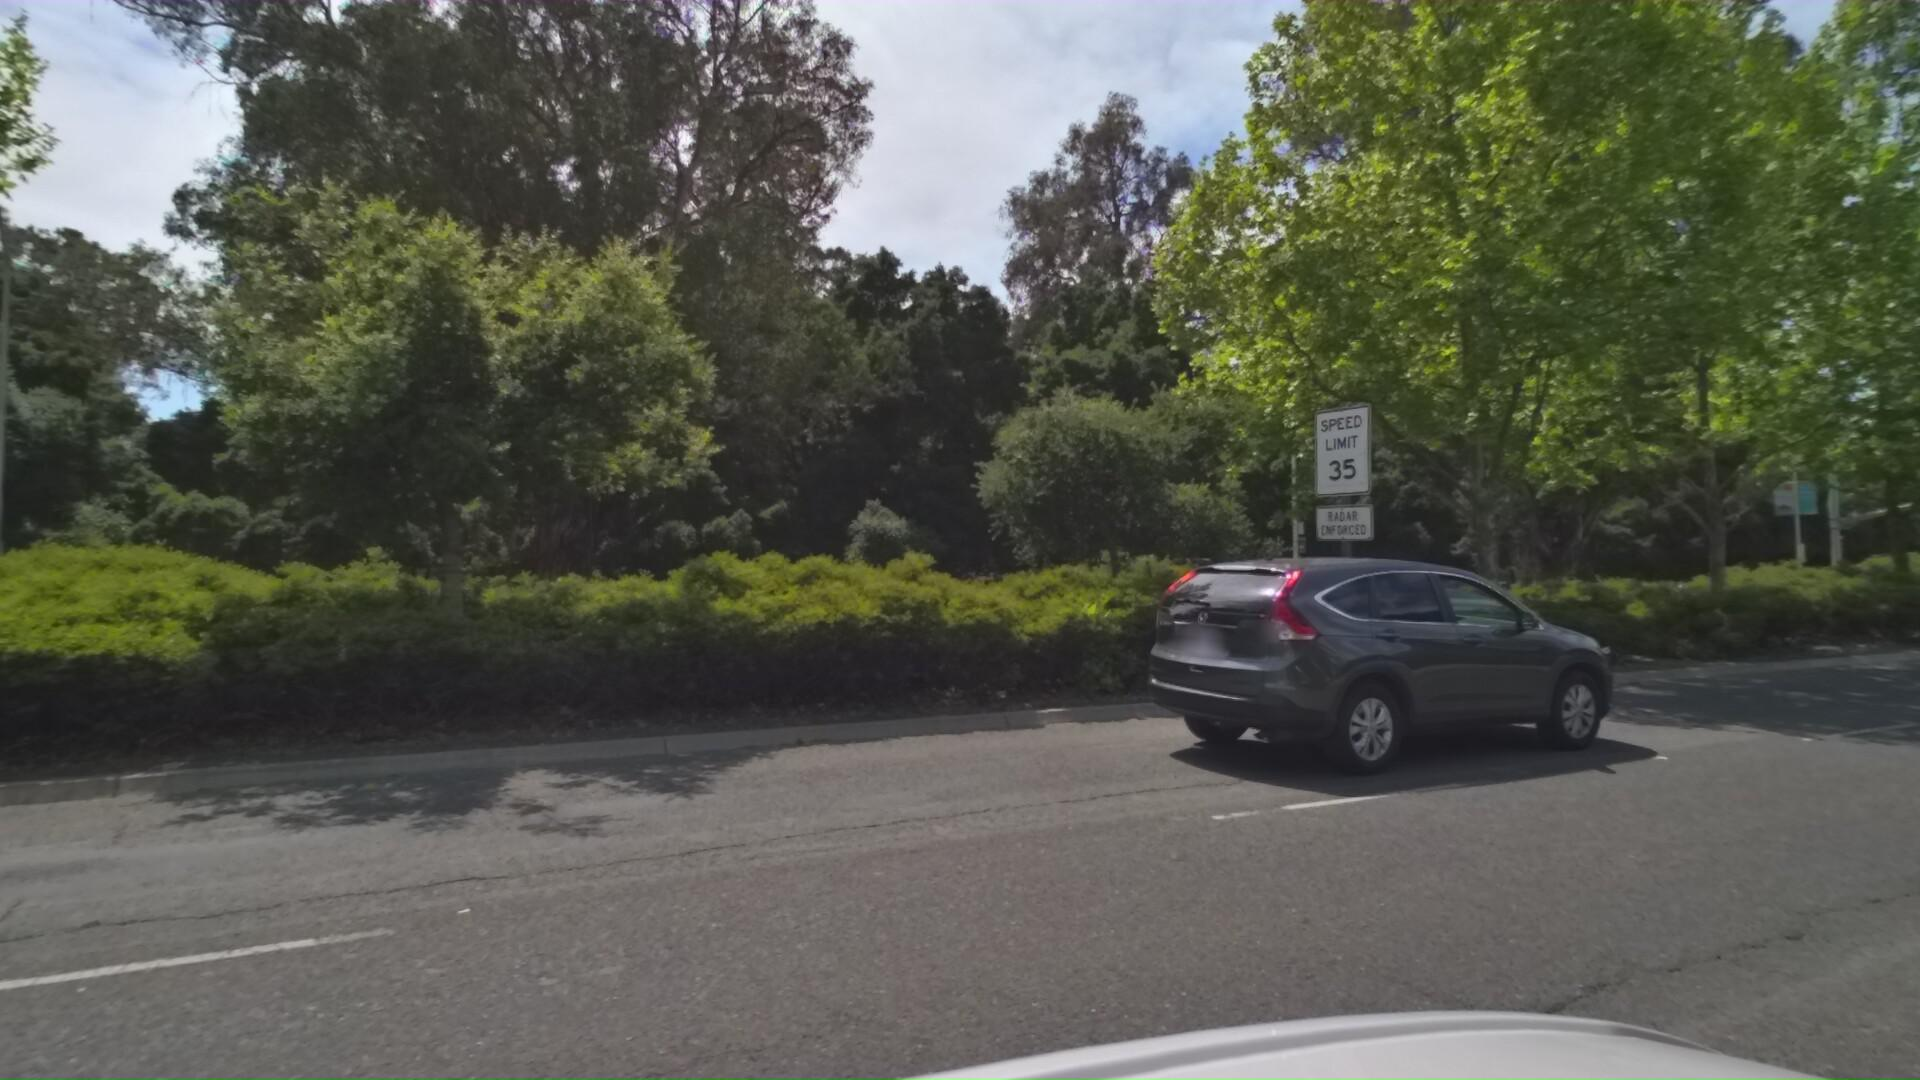car: (1131, 553, 1663, 793)
